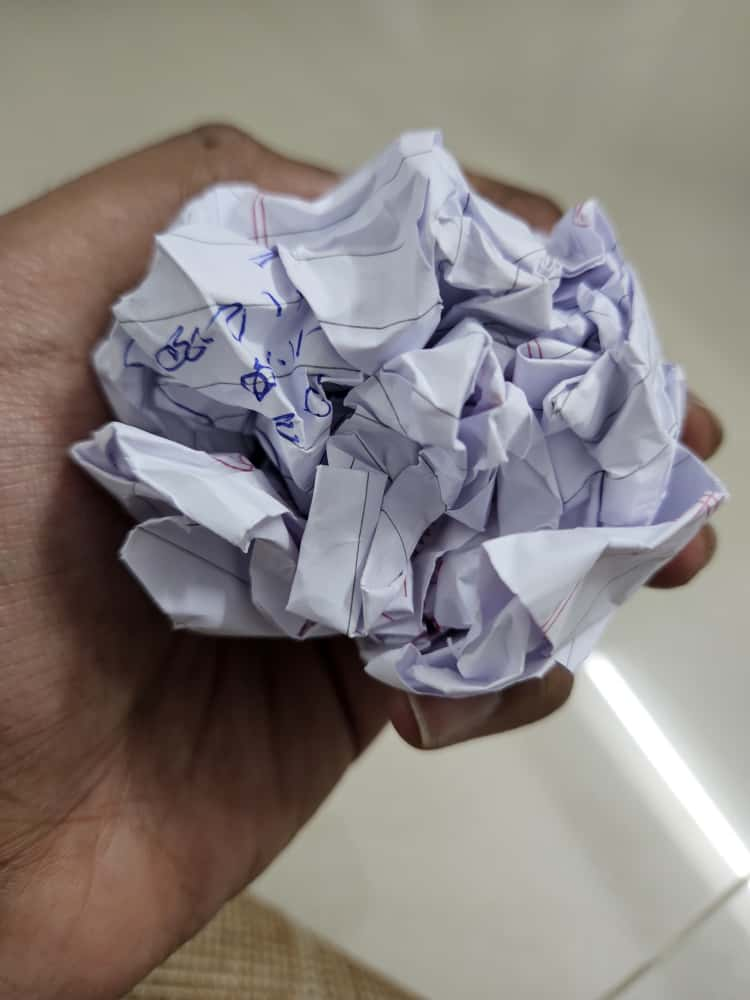dry: (82, 151, 713, 720)
